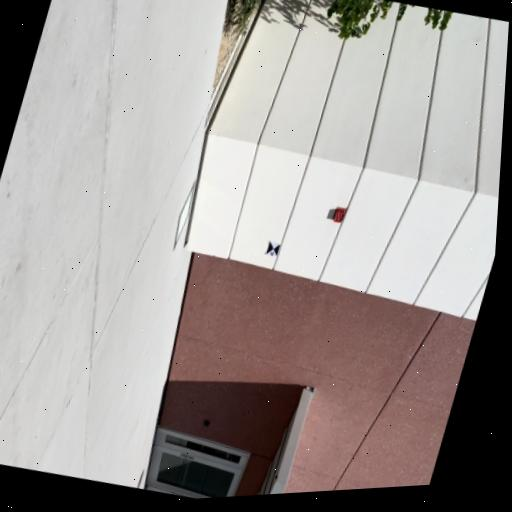target9: (265, 240, 281, 259)
